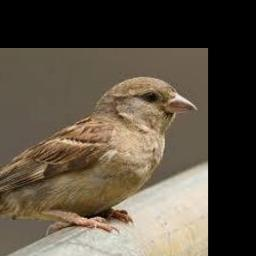Sparrow: (0, 75, 197, 233)
